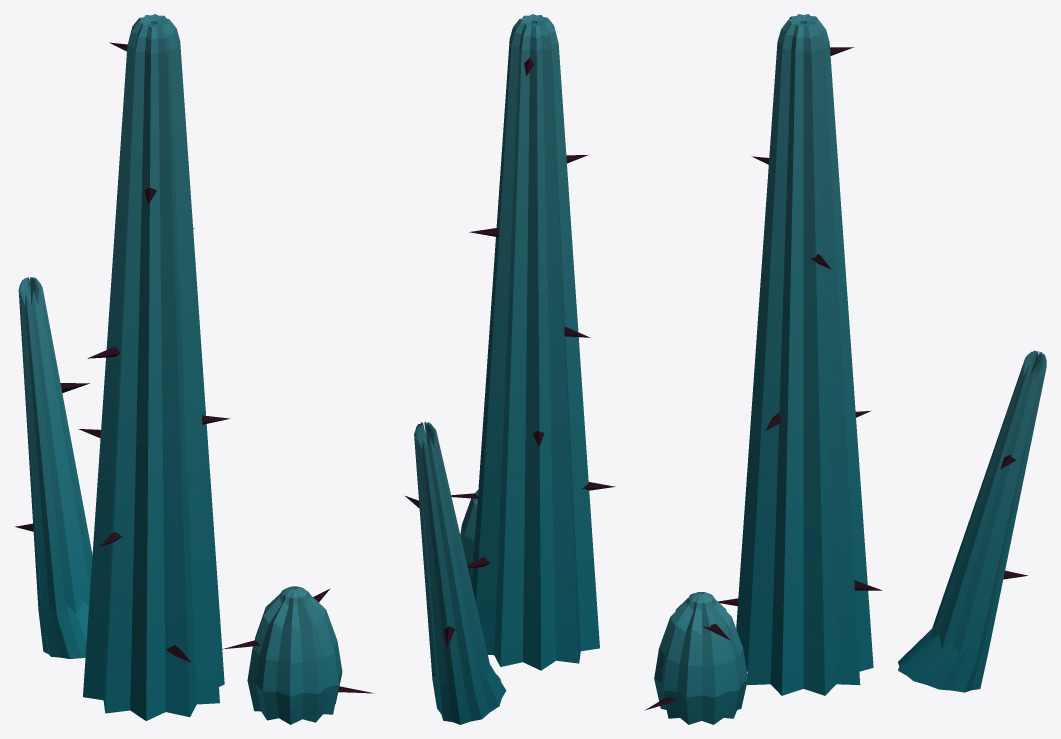
The model's file is Cactus_02.fbx.
3 views of the same model, side by side, from view 1: azimuth 30°, elevation 25°; view 2: azimuth 150°, elevation 25°; view 3: azimuth 270°, elevation 25° (orthographic). The views are drawn at different scales.
Parts seen in each view (by area): view 1: pCylinder8; view 2: pCylinder8; view 3: pCylinder8.
Part boxes in pixels (x1,y1,x2,y2): pCylinder8: (15, 14, 373, 724); pCylinder8: (405, 14, 615, 724); pCylinder8: (645, 14, 1046, 724).
Bounding box in the file's own units: 1.44 × 4.48 × 2.45.
